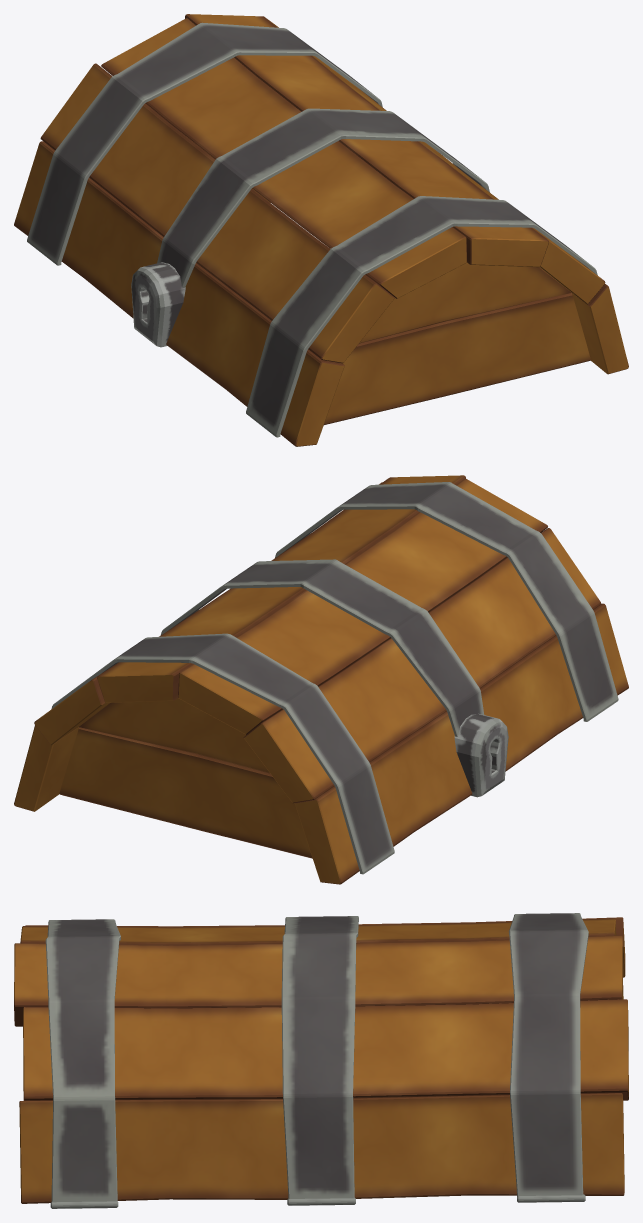
File: Chest_Upper_Part.fbx
3 views of the same model, one above another, from view 1: azimuth 30°, elevation 25°; view 2: azimuth 150°, elevation 25°; view 3: azimuth 270°, elevation 25° (orthographic). The views are drawn at different scales.
Visible parts, largest first — view 1: Chest_Upper_Part; view 2: Chest_Upper_Part; view 3: Chest_Upper_Part.
Part boxes in pixels (left/top/right/bottom): Chest_Upper_Part: left=14, top=14, right=628, bottom=446; Chest_Upper_Part: left=14, top=475, right=628, bottom=884; Chest_Upper_Part: left=14, top=913, right=628, bottom=1208.
Size of the model in its own units: 48.49 by 24.82 by 70.52.
